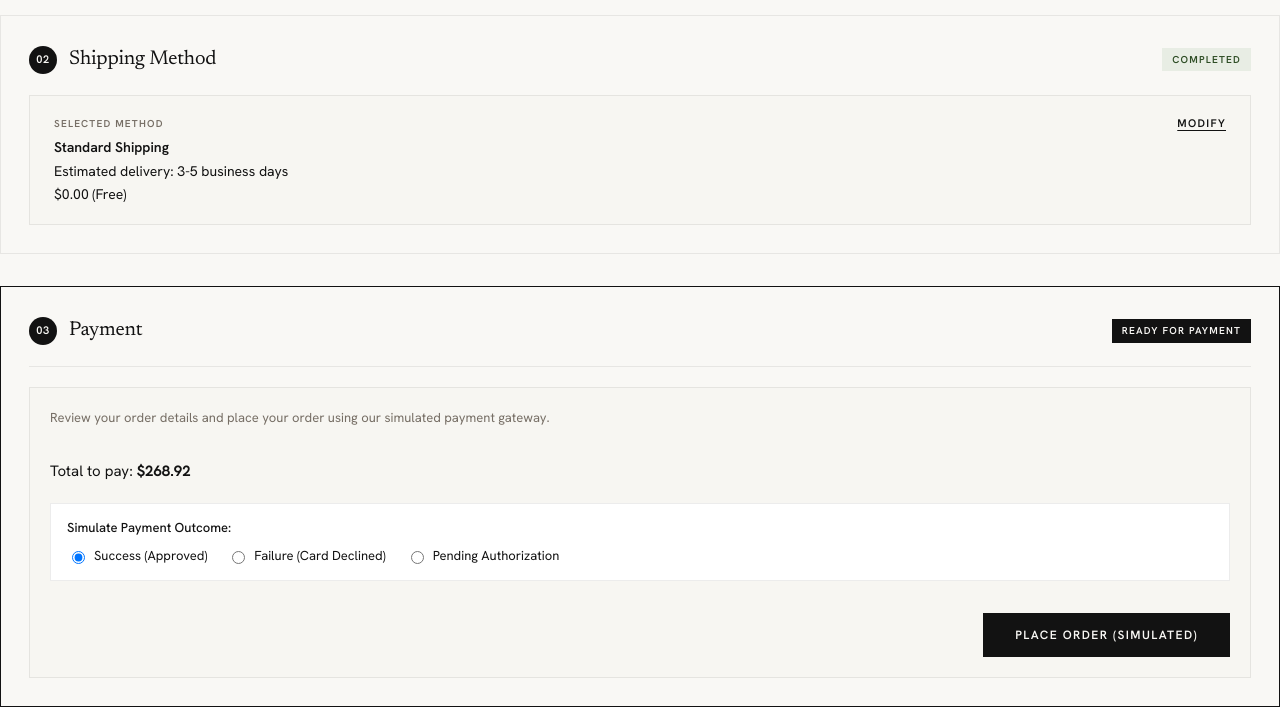
Test case: ContactAndAddressForm › allows selecting simulated failure scenario and displays failure error with enabled retry
(page scrolled)
Select fail scenario
Click the radio button with test id "scenario-fail": [239, 558] box [232,551,245,564]
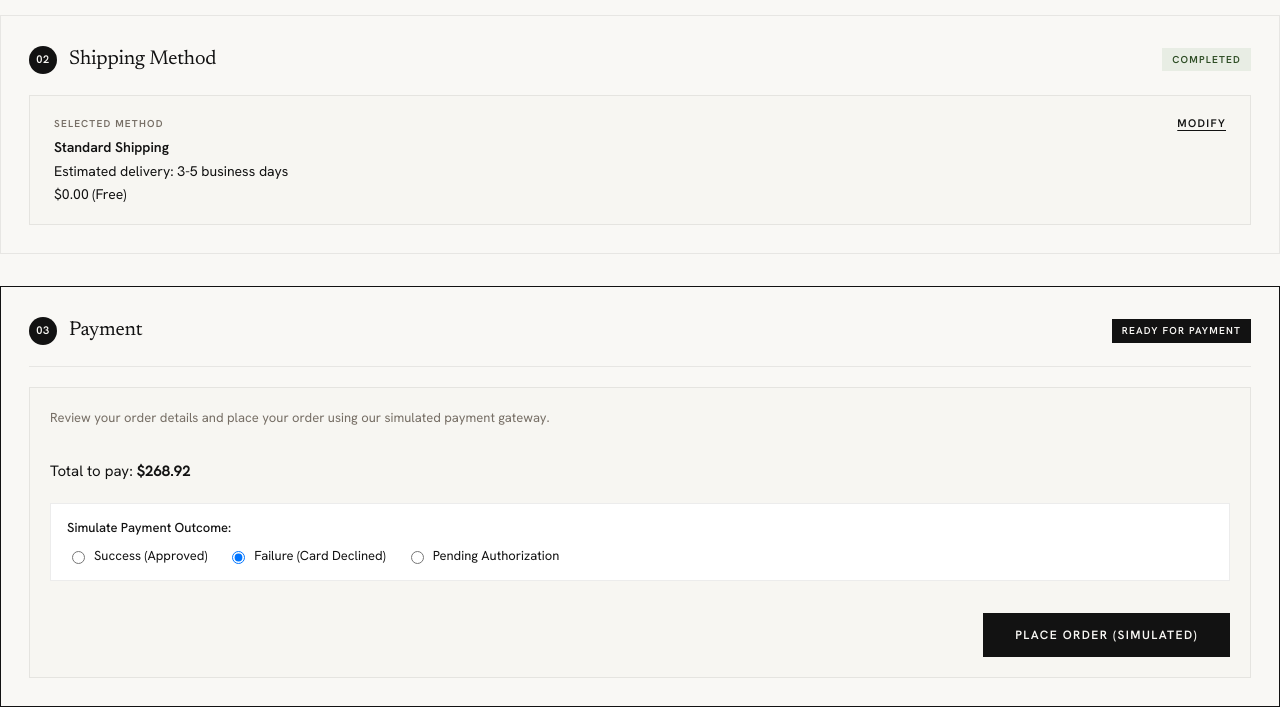
expect the radio button with test id "scenario-fail" is checked: met, box [232,551,245,564]
Click the button with test id "place-order-button": [1107, 635] box [983,613,1230,657]
(page scrolled)
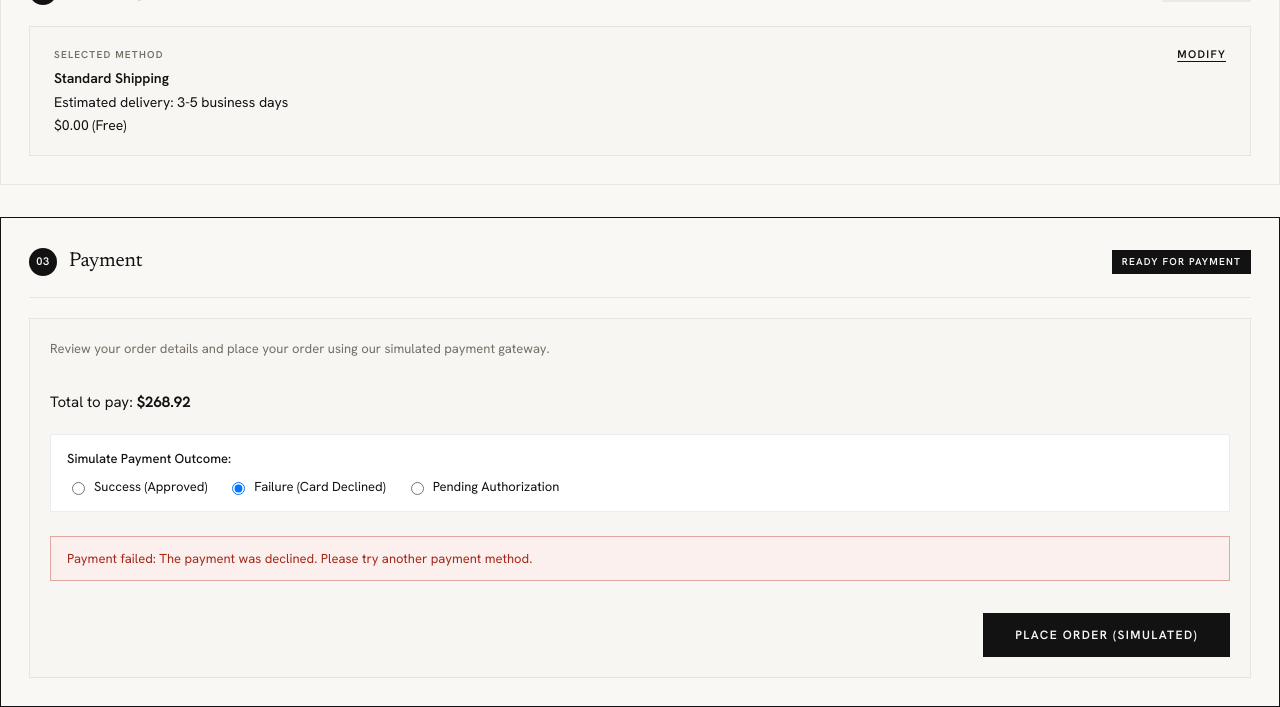
expect the message with test id "payment-error" reads "Payment failed: The payment was declined. Please try another payment method.": met, box [67,550,532,567]
